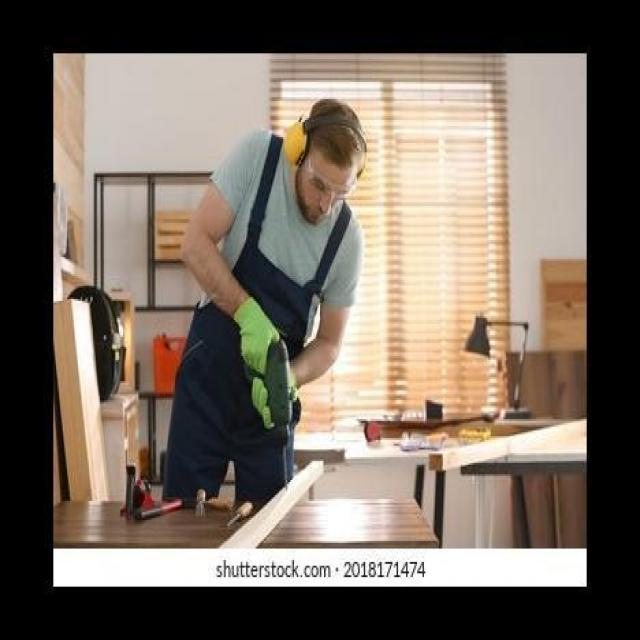drill: (244, 337, 293, 493)
